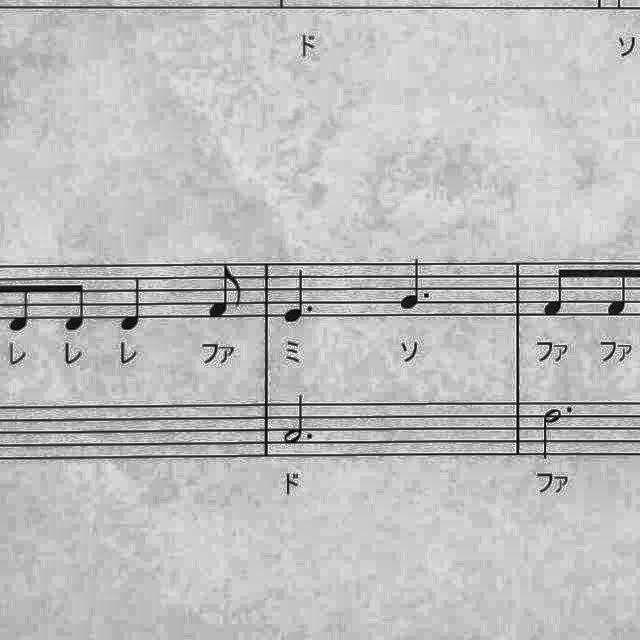Eighth-note: (202, 260, 246, 322), (540, 260, 576, 324), (602, 258, 638, 322), (58, 274, 94, 336), (2, 273, 36, 337)
Half-dot: (538, 402, 578, 462), (279, 392, 319, 448)
Quarter-dot: (389, 253, 431, 310), (280, 266, 318, 328)
Quarter-note: (114, 267, 152, 337)
